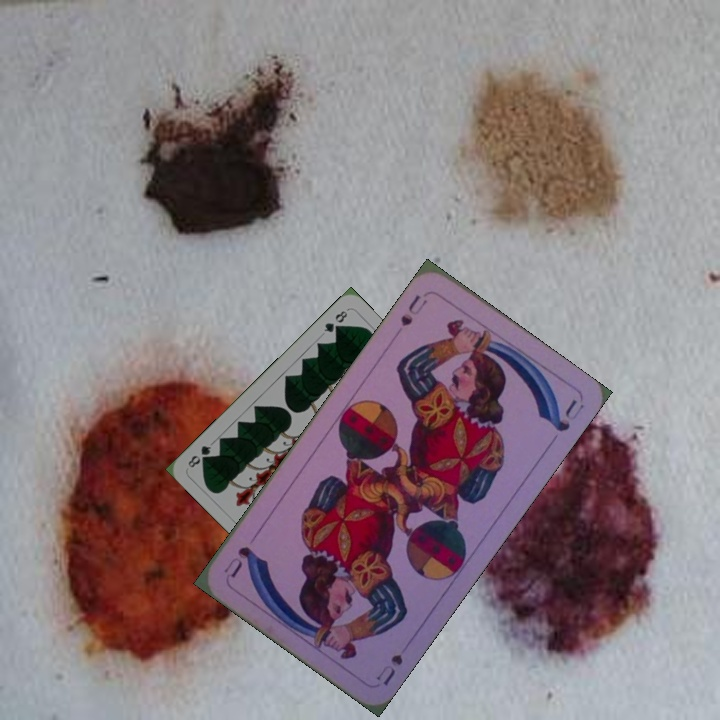G8: (320, 306, 350, 335)
SU: (372, 649, 406, 688), (396, 290, 430, 329)
